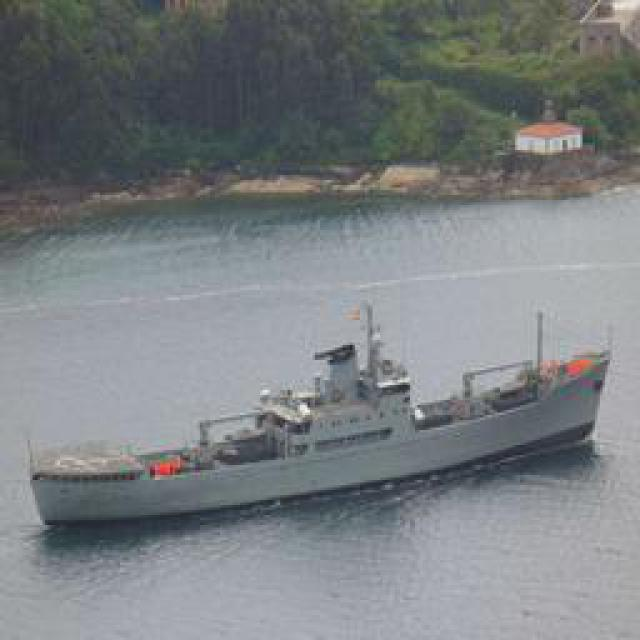Ship: (14, 307, 614, 537)
